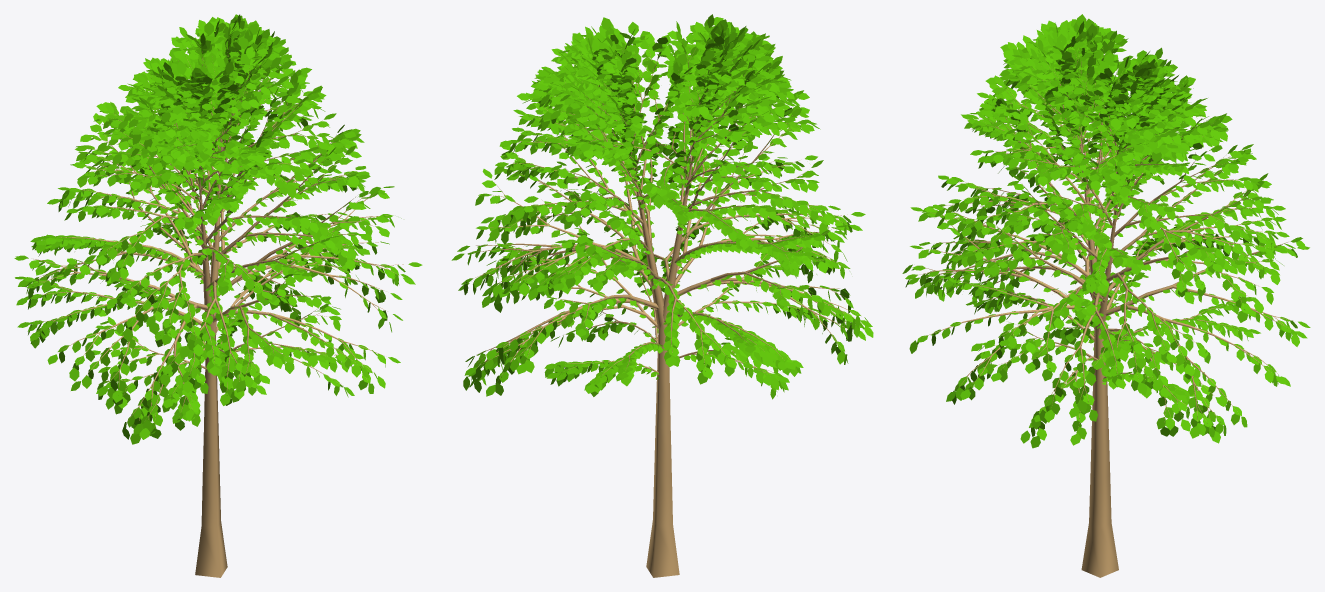
The model's file is pohon verse 1.fbx.
3 views of the same model, side by side, from view 1: azimuth 30°, elevation 25°; view 2: azimuth 150°, elevation 25°; view 3: azimuth 270°, elevation 25° (orthographic). The views are drawn at different scales.
Parts seen in each view (by area): view 1: leaves, tree; view 2: leaves, tree; view 3: leaves, tree.
Boxes of the visible parts, x1,y1,x2,y2 form: leaves: [14, 14, 422, 444]; tree: [32, 41, 403, 577]; leaves: [451, 14, 873, 399]; tree: [468, 45, 860, 577]; leaves: [902, 14, 1310, 448]; tree: [916, 48, 1292, 577].
Size of the model in its own units: 422 by 574 by 402.
